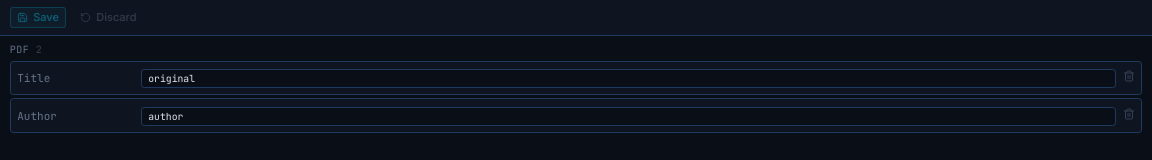
Test: edits and deletions are one atomic write with one undo entry; a failed save is retried whole
The image size is (1152, 160).
Replace the text in the field named "Title" with "edited": (629, 79) [141,69,1116,88]
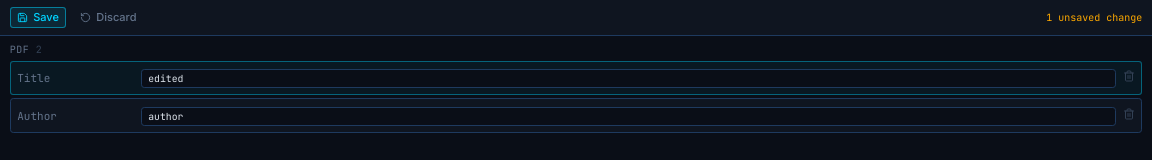
Click the button named "Delete Author": (1129, 113) [1123,106,1135,120]
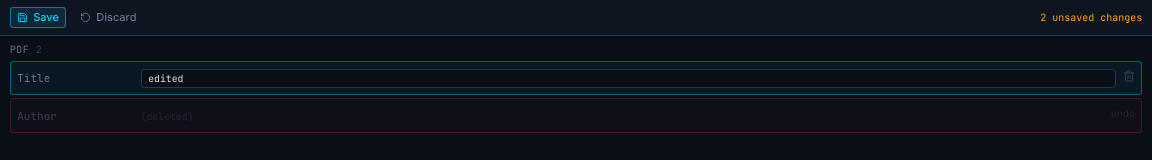
Click the button "Save": (38, 17) [10,6,66,28]
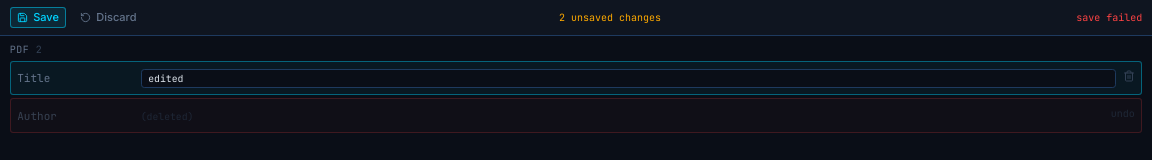
Result: the text "save failed" is shown at [1076,10,1142,25]
Click the button "Save": (38, 17) [10,6,66,28]
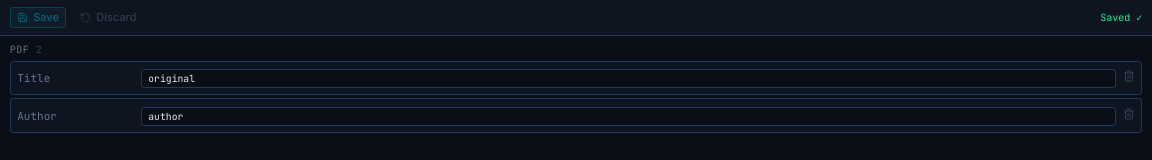
Result: the text "Saved ✓" is shown at [1100,10,1142,25]
